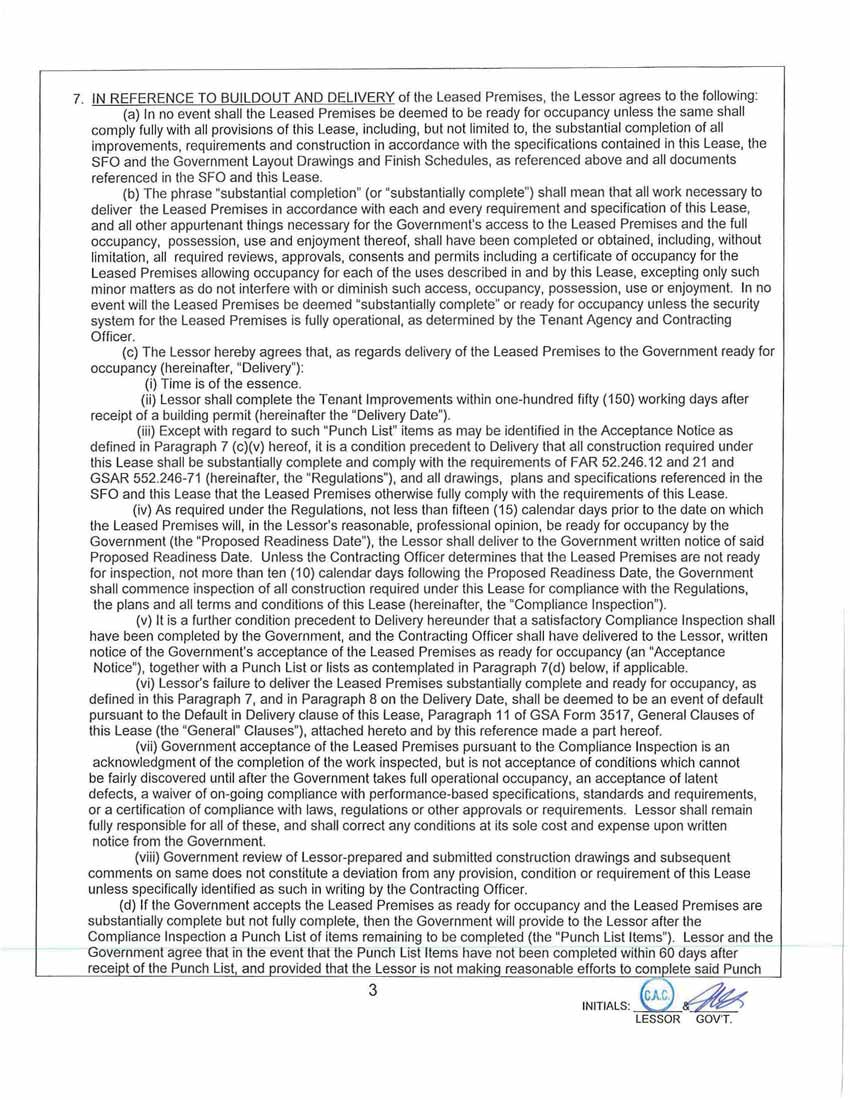handwritten: (686, 974, 756, 1011)
